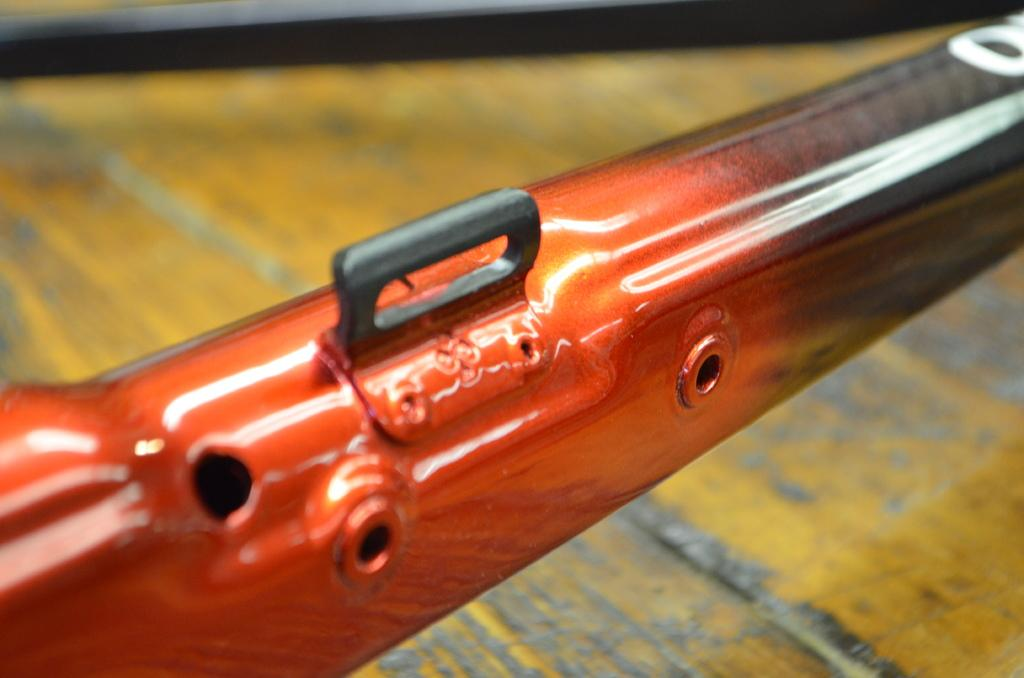Rifle: (0, 12, 1023, 677)
